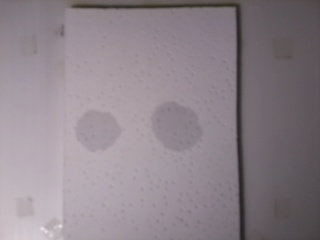Water_detected: (153, 108, 193, 144), (82, 119, 114, 144)
